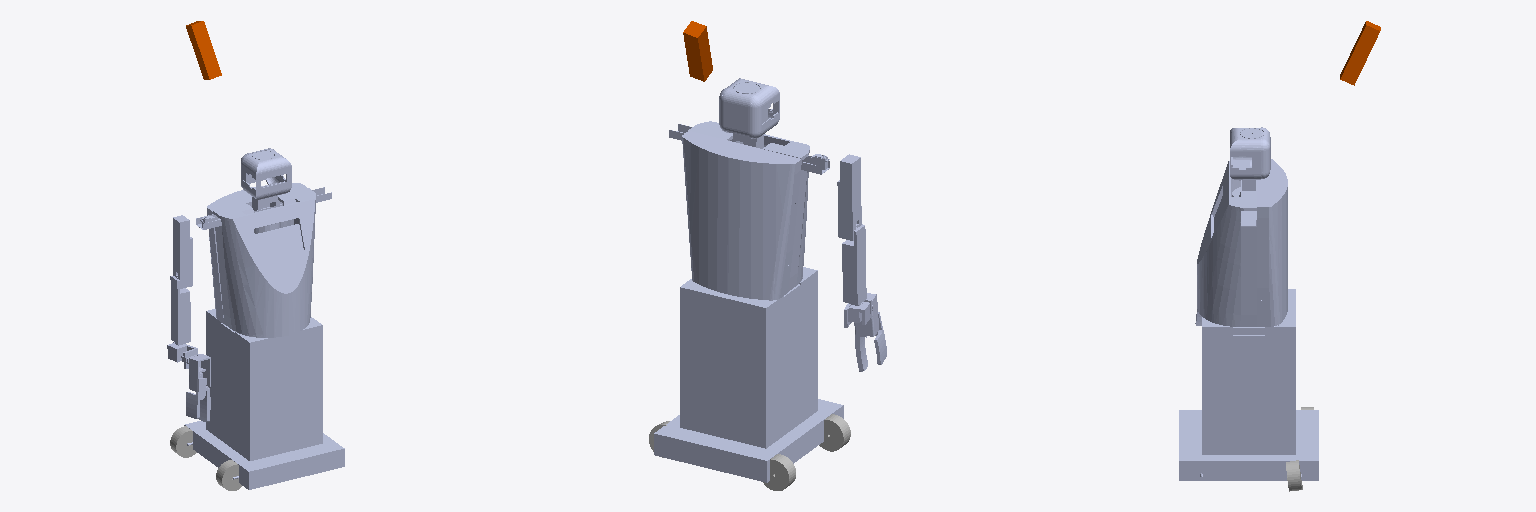
--- Facts derived from the render (not from the file) ---
The picture shows the robot from 3 angles, left to right: view 1: azimuth 30°, elevation 25°; view 2: azimuth 150°, elevation 25°; view 3: azimuth 270°, elevation 25°; orthographic projection.
Robot: simple_ardop — 14 links, 13 joints (11 continuous, 2 fixed); root link odom; default pose: all joints at 0.
Links seen in each view (by area): view 1: base_link, bicep_Link, forearm_Link, kinect_link, wrist3_Link, wheel_back_right_Link, wheel_front_right_Link, end_effector_Link; view 2: base_link, bicep_Link, forearm_Link, kinect_link, wrist3_Link, wheel_front_right_Link, wheel_back_right_Link; view 3: base_link, kinect_link.
Link boxes in pixels (bbox=[...]): base_link: bbox=[184, 148, 344, 489]; bicep_Link: bbox=[173, 215, 192, 288]; forearm_Link: bbox=[170, 276, 190, 345]; kinect_link: bbox=[186, 21, 221, 79]; wrist3_Link: bbox=[189, 354, 210, 421]; wheel_back_right_Link: bbox=[170, 426, 196, 457]; wheel_front_right_Link: bbox=[216, 460, 241, 490]; end_effector_Link: bbox=[186, 378, 206, 418]; base_link: bbox=[654, 78, 843, 482]; bicep_Link: bbox=[837, 154, 861, 240]; forearm_Link: bbox=[842, 224, 866, 305]; kinect_link: bbox=[683, 21, 712, 81]; wrist3_Link: bbox=[854, 293, 878, 371]; wheel_front_right_Link: bbox=[819, 414, 850, 451]; wheel_back_right_Link: bbox=[763, 454, 795, 490]; base_link: bbox=[1179, 127, 1318, 480]; kinect_link: bbox=[1340, 21, 1380, 85].
Bounding box of the posed robot: 0.6396 × 0.6418 × 1.54 m (x, y, z).
Meshes: 12 distinct files referenced, 10 mesh visuals loaded (10 binary STL); not drawn: 2 (reference not matched to a file when rendering).

robot.urdf — simple_ardop:
<robot
  name="simple_ardop">
  <link name="odom" />

  <link
    name="base_link">
    <inertial>
      <origin
        xyz="0.23525 -0.35636 -0.16004"
        rpy="0 0 0" />
      <mass
        value="62.913" />
      <inertia
        ixx="3.1177"
        ixy="0.00059306"
        ixz="0.0015251"
        iyy="3.068"
        iyz="0.014463"
        izz="0.050374" />
    </inertial>
    <visual>
      <origin
        xyz="0 0 0"
        rpy="0 0 0" />
      <geometry>
        <mesh
          filename="package://simple_ardop/meshes/base_link.STL" />
      </geometry>
      <material
        name="">
        <color
          rgba="0.79216 0.81961 0.93333 1" />
      </material>
    </visual>
    <collision>
      <origin
        xyz="0 0 0"
        rpy="0 0 0" />
      <geometry>
        <mesh
          filename="package://simple_ardop/meshes/base_link.STL" />
      </geometry>
    </collision>
  </link>

    <joint
    name="odom_joint"
    type="fixed">
    <parent
      link="odom" />
    <child
      link="base_link" />
  </joint>


  <link
    name="wheel_front_left_Link">
    <inertial>
      <origin
        xyz="0.0075 -1.1546E-14 2.548E-14"
        rpy="0 0 0" />
      <mass
        value="2.00" />  <!-- 0.01907-->
      <inertia
        ixx="0"
        ixy="0"
        ixz="0"
        iyy="0"
        iyz="0"
        izz="0" />
    </inertial>
    <visual>
      <origin
        xyz="0 0 0"
        rpy="0 0 0" />
      <geometry>
        <mesh
          filename="package://simple_ardop/meshes/wheel_front_left_Link.STL" />
      </geometry>
      <material
        name="">
        <color
          rgba="0.75294 0.75294 0.75294 1" />
      </material>
    </visual>
    <collision>
      <origin
        xyz="0 0 0"
        rpy="0 0 0" />
      <geometry>
        <mesh
          filename="package://simple_ardop/meshes/wheel_front_left_Link.STL" />
      </geometry>
    </collision>
  </link>
  <joint
    name="wheel_front_left_joint"
    type="continuous">
    <origin
      xyz="0.42534 -0.50619 -0.47879"
      rpy="0.85877 0 0" />
    <parent
      link="base_link" />
    <child
      link="wheel_front_left_Link" />
    <axis
      xyz="1 0 0" />
  </joint>
  <link
    name="wheel_front_right_Link">
    <inertial>
      <origin
        xyz="0.0075 -1.7764E-15 3.8525E-14"
        rpy="0 0 0" />
      <mass
        value="2.00" />
      <inertia
        ixx="0"
        ixy="0"
        ixz="0"
        iyy="0"
        iyz="0"
        izz="0" />
    </inertial>
    <visual>
      <origin
        xyz="0 0 0"
        rpy="0 0 0" />
      <geometry>
        <mesh
          filename="package://simple_ardop/meshes/wheel_front_right_Link.STL" />
      </geometry>
      <material
        name="">
        <color
          rgba="0.75294 0.75294 0.75294 1" />
      </material>
    </visual>
    <collision>
      <origin
        xyz="0 0 0"
        rpy="0 0 0" />
      <geometry>
        <mesh
          filename="package://simple_ardop/meshes/wheel_front_right_Link.STL" />
      </geometry>
    </collision>
  </link>
  <joint
    name="wheel_front_right_joint"
    type="continuous">
    <origin
      xyz="0.030335 -0.50619 -0.47879"
      rpy="1.5708 0 0" />
    <parent
      link="base_link" />
    <child
      link="wheel_front_right_Link" />
    <axis
      xyz="1 0 0" />
  </joint>
  <link
    name="wheel_back_left_Link">
    <inertial>
      <origin
        xyz="0.0075 -8.0491E-15 3.8025E-15"
        rpy="0 0 0" />
      <mass
        value="2.00" />
      <inertia
        ixx="0"
        ixy="0"
        ixz="0"
        iyy="0"
        iyz="0"
        izz="0" />
    </inertial>
    <visual>
      <origin
        xyz="0 0 0"
        rpy="0 0 0" />
      <geometry>
        <mesh
          filename="package://simple_ardop/meshes/wheel_back_left_Link.STL" />
      </geometry>
      <material
        name="">
        <color
          rgba="0.75294 0.75294 0.75294 1" />
      </material>
    </visual>
    <collision>
      <origin
        xyz="0 0 0"
        rpy="0 0 0" />
      <geometry>
        <mesh
          filename="package://simple_ardop/meshes/wheel_back_left_Link.STL" />
      </geometry>
    </collision>
  </link>
  <joint
    name="wheel_back_left_joint"
    type="continuous">
    <origin
      xyz="0.42534 -0.19004 -0.47879"
      rpy="1.6891 0 0" />
    <parent
      link="base_link" />
    <child
      link="wheel_back_left_Link" />
    <axis
      xyz="1 0 0" />
  </joint>
  <link
    name="wheel_back_right_Link">
    <inertial>
      <origin
        xyz="0.0075 -1.7764E-15 3.8525E-14"
        rpy="0 0 0" />
      <mass
        value="2.00" />
      <inertia
        ixx="0"
        ixy="0"
        ixz="0"
        iyy="0"
        iyz="0"
        izz="0" />
    </inertial>
    <visual>
      <origin
        xyz="0 0 0"
        rpy="0 0 0" />
      <geometry>
        <mesh
          filename="package://simple_ardop/meshes/wheel_back_right_Link.STL" />
      </geometry>
      <material
        name="">
        <color
          rgba="0.75294 0.75294 0.75294 1" />
      </material>
    </visual>
    <collision>
      <origin
        xyz="0 0 0"
        rpy="0 0 0" />
      <geometry>
        <mesh
          filename="package://simple_ardop/meshes/wheel_back_right_Link.STL" />
      </geometry>
    </collision>
  </link>
  <joint
    name="wheel_back_right_joint"
    type="continuous">
    <origin
      xyz="0.030335 -0.19004 -0.47879"
      rpy="1.5708 0 0" />
    <parent
      link="base_link" />
    <child
      link="wheel_back_right_Link" />
    <axis
      xyz="1 0 0" />
  </joint>
  <link
    name="shoulder_Link">
    <inertial>
      <origin
        xyz="0.008031 0.036032 0.043945"
        rpy="0 0 0" />
      <mass
        value="0.20851" />
      <inertia
        ixx="0"
        ixy="0"
        ixz="0"
        iyy="0"
        iyz="0"
        izz="0" />
    </inertial>
    <visual>
      <origin
        xyz="0 0 0"
        rpy="0 0 0" />
      <geometry>
        <mesh
          filename="package://simple_ardop/meshes/shoulder_Link.STL" />
      </geometry>
      <material
        name="">
        <color
          rgba="0.098039 0.098039 0.098039 1" />
      </material>
    </visual>
    <collision>
      <origin
        xyz="0 0 0"
        rpy="0 0 0" />
      <geometry>
        <mesh
          filename="package://simple_ardop/meshes/shoulder_Link.STL" />
      </geometry>
    </collision>
  </link>
  <joint
    name="shoulder_joint"
    type="continuous">
    <origin
      xyz="-0.0058888 -0.36975 0.40275"
      rpy="-1.0091E-17 6.0393E-17 1.4052" />
    <parent
      link="base_link" />
    <child
      link="shoulder_Link" />
    <axis
      xyz="0 0 1" />
      		<limit
			effort="300"
			velocity="3"
			lower="-0.45"
			upper="1.10" />
		<dynamics 
			damping="50" 
			friction="1" />
  </joint>
  <link
    name="bicep_Link">
    <inertial>
      <origin
        xyz="0.034133 -0.09449 -0.013707"
        rpy="0 0 0" />
      <mass
        value="0.5828" />
      <inertia
        ixx="0"
        ixy="0"
        ixz="0"
        iyy="0"
        iyz="0"
        izz="0"  />
    </inertial>
    <visual>
      <origin
        xyz="0 0 0"
        rpy="0 0 0" />
      <geometry>
        <mesh
          filename="package://simple_ardop/meshes/bicep_Link.STL" />
      </geometry>
      <material
        name="">
        <color
          rgba="0.79216 0.81961 0.93333 1" />
      </material>
    </visual>
    <collision>
      <origin
        xyz="0 0 0"
        rpy="0 0 0" />
      <geometry>
        <mesh
          filename="package://simple_ardop/meshes/bicep_Link.STL" />
      </geometry>
    </collision>
  </link>
  <joint
    name="bicep_joint"
    type="continuous">
    <origin
      xyz="0.0026622 0.055751 0.04"
      rpy="1.5837 -4.5667E-16 1.5708" />
    <parent
      link="shoulder_Link" />
    <child
      link="bicep_Link" />
    <axis
      xyz="-1 0 0" />
      		<limit
			effort="300"
			velocity="3"
			lower="-0.45"
			upper="1.10" />
		<dynamics 
			damping="50" 
			friction="1" />
  </joint>
  <link
    name="forearm_Link">
    <inertial>
      <origin
        xyz="0.035227 -0.11565 -0.010858"
        rpy="0 0 0" />
      <mass
        value="0.4986" />
      <inertia
        ixx="0"
        ixy="0"
        ixz="0"
        iyy="0"
        iyz="0"
        izz="0"  />
    </inertial>
    <visual>
      <origin
        xyz="0 0 0"
        rpy="0 0 0" />
      <geometry>
        <mesh
          filename="package://simple_ardop/meshes/forearm_Link.STL" />
      </geometry>
      <material
        name="">
        <color
          rgba="0.79216 0.81961 0.93333 1" />
      </material>
    </visual>
    <collision>
      <origin
        xyz="0 0 0"
        rpy="0 0 0" />
      <geometry>
        <mesh
          filename="package://simple_ardop/meshes/forearm_Link.STL" />
      </geometry>
    </collision>
  </link>
  <joint
    name="forearm_joint"
    type="continuous">
    <origin
      xyz="0.0094954 -0.20676 -0.00095309"
      rpy="0.065442 2.7756E-17 -9.3241E-16" />
    <parent
      link="bicep_Link" />
    <child
      link="forearm_Link" />
    <axis
      xyz="-1 0 0" />
      		<limit
			effort="300"
			velocity="3"
			lower="-0.45"
			upper="1.10" />
		<dynamics 
			damping="50" 
			friction="1" />
  </joint>
  <link
    name="wrist_Link">
    <inertial>
      <origin
        xyz="-0.00103 -0.0092846 0.025689"
        rpy="0 0 0" />
      <mass
        value="0.10422" />
      <inertia
        ixx="0"
        ixy="0"
        ixz="0"
        iyy="0"
        iyz="0"
        izz="0"  />
    </inertial>
    <visual>
      <origin
        xyz="0 0 0"
        rpy="0 0 0" />
      <geometry>
        <mesh
          filename="package://simple_ardop/meshes/wrist_Link.STL" />
      </geometry>
      <material
        name="">
        <color
          rgba="0.79216 0.81961 0.93333 1" />
      </material>
    </visual>
    <collision>
      <origin
        xyz="0 0 0"
        rpy="0 0 0" />
      <geometry>
        <mesh
          filename="package://simple_ardop/meshes/wrist_Link.STL" />
      </geometry>
    </collision>
  </link>
  <joint
    name="wrist_joint"
    type="continuous">
    <origin
      xyz="0.046015 -0.227 0"
      rpy="1.5708 -0.11078 1.5499E-15" />
    <parent
      link="forearm_Link" />
    <child
      link="wrist_Link" />
    <axis
      xyz="-0.0086546 -0.077803 -0.99693" />
      		<limit
			effort="300"
			velocity="3"
			lower="-0.45"
			upper="1.10" />
		<dynamics 
			damping="50" 
			friction="1" />
  </joint>
  <link
    name="wrist2_Link">
    <inertial>
      <origin
        xyz="0.01744 1.3289E-06 0.020602"
        rpy="0 0 0" />
      <mass
        value="0.10052" />
      <inertia
        ixx="0"
        ixy="0"
        ixz="0"
        iyy="0"
        iyz="0"
        izz="0"  />
    </inertial>
    <visual>
      <origin
        xyz="0 0 0"
        rpy="0 0 0" />
      <geometry>
        <mesh
          filename="package://simple_ardop/meshes/wrist2_Link.STL" />
      </geometry>
      <material
        name="">
        <color
          rgba="0.79216 0.81961 0.93333 1" />
      </material>
    </visual>
    <collision>
      <origin
        xyz="0 0 0"
        rpy="0 0 0" />
      <geometry>
        <mesh
          filename="package://simple_ardop/meshes/wrist2_Link.STL" />
      </geometry>
    </collision>
  </link>
  <joint
    name="wrist2_joint"
    type="continuous">
    <origin
      xyz="-0.045183 -0.0059131 0.039398"
      rpy="-1.5489 0.0095341 -2.0545" />
    <parent
      link="wrist_Link" />
    <child
      link="wrist2_Link" />
    <axis
      xyz="0 0 -1" />
      		<limit
			effort="300"
			velocity="3"
			lower="-0.45"
			upper="1.10" />
		<dynamics 
			damping="50" 
			friction="1" />
  </joint>
  <link
    name="wrist3_Link">
    <inertial>
      <origin
        xyz="0.055624 -0.086582 -0.0042256"
        rpy="0 0 0" />
      <mass
        value="0.23397" />
      <inertia
        ixx="0"
        ixy="0"
        ixz="0"
        iyy="0"
        iyz="0"
        izz="0"  />
    </inertial>
    <visual>
      <origin
        xyz="0 0 0"
        rpy="0 0 0" />
      <geometry>
        <mesh
          filename="package://simple_ardop/meshes/wrist3_Link.STL" />
      </geometry>
      <material
        name="">
        <color
          rgba="0.79216 0.81961 0.93333 1" />
      </material>
    </visual>
    <collision>
      <origin
        xyz="0 0 0"
        rpy="0 0 0" />
      <geometry>
        <mesh
          filename="package://simple_ardop/meshes/wrist3_Link.STL" />
      </geometry>
    </collision>
  </link>
  <joint
    name="wrist3_joint"
    type="continuous">
    <origin
      xyz="0.01492 0 0.024641"
      rpy="-0.04401 1.3878E-15 -8.4655E-16" />
    <parent
      link="wrist2_Link" />
    <child
      link="wrist3_Link" />
    <axis
      xyz="1 0 0" />
      		<limit
			effort="300"
			velocity="3"
			lower="-0.45"
			upper="1.10" />
		<dynamics 
			damping="50" 
			friction="1" />
  </joint>
  <link
    name="end_effector_Link">
    <inertial>
      <origin
        xyz="0.0082894 -0.061865 0.06505"
        rpy="0 0 0" />
      <mass
        value="0.075365" />
      <inertia
        ixx="0"
        ixy="0"
        ixz="0"
        iyy="0"
        iyz="0"
        izz="0" />
    </inertial>
    <visual>
      <origin
        xyz="0 0 0"
        rpy="0 0 0" />
      <geometry>
        <mesh
          filename="package://simple_ardop/meshes/end_effector_Link.STL" />
      </geometry>
      <material
        name="">
        <color
          rgba="0.79216 0.81961 0.93333 1" />
      </material>
    </visual>
    <collision>
      <origin
        xyz="0 0 0"
        rpy="0 0 0" />
      <geometry>
        <mesh
          filename="package://simple_ardop/meshes/end_effector_Link.STL" />
      </geometry>
    </collision>
  </link>
  <joint
    name="end_effector_joint"
    type="continuous">
    <origin
      xyz="0.0077442 -0.068318 0.016305"
      rpy="9.9928E-15 -1.4511 1.5708" />
    <parent
      link="wrist3_Link" />
    <child
      link="end_effector_Link" />
    <axis
      xyz="0 -1 0" />
      		<limit
			effort="300"
			velocity="3"
			lower="-0.45"
			upper="1.10" />
		<dynamics 
			damping="50" 
			friction="1" />
  </joint>


<!-- 

  <link name="kinect_link">
    <collision>
      <origin xyz="0 0 1" rpy="0 0 0"/>
      <geometry>
        <box size="0.05 0.2 0.05"/>
      </geometry>
    </collision>

    <visual>
      <origin xyz="0 0 1" rpy="0 0 0"/>
      <geometry>
        <box size="0.05 0.2 0.05"/>
      </geometry>
      <material name="green"/>
    </visual>

    <inertial>
      <mass value="0.1" />
      <origin xyz="0 0 1" rpy="0 0 0"/>
      <box_inertia m="0.1 0.1 0.1 " />
      <inertia ixx="0" ixy="0" ixz="0" iyy="0" iyz="0" izz="0" />
    </inertial>
  </link>

  <joint name="kinect_joint" type="fixed">
    <axis xyz="0 0 1" />
    <origin xyz=".2 0 0" rpy="0 0 0"/>
    <parent link="base_link"/>
    <child link="kinect_link"/>
  </joint>


  <joint name="camera_optical_joint" type="fixed">
    <axis xyz="0 0 0" />
    <origin xyz=".2 0 0" rpy="0 0 0"/>
    <parent link="kinect_link"/>
    <child link="camera_link_optical"/>
  </joint>

<link name = " camera_link_optical">
</link>




<gazebo reference = "kinect_link" >
<sensor type = "depth"  name ="camera_1">
<always_on>1</always_on>
<visualize>true</visualize>
<camera>
  <horizontal_fov>1.047</horizontal_fov>
  <image>
    <width>640</width>
    <height>480</height>
    <format>R8G8B8</format>
  </image>

  <depth_camera>
  </depth_camera>

  <clip>
    <near>0.1</near>
    <far>100</far>
  </clip>


</camera>

<gazebo>
<plugin name = "camera_controller" filename = "libgazebo_ros_openni_kinect.so">
  <always_on>true</always_on>
  <updateRate>10.0</updateRate>
  <cameraName>kinect</cameraName>
  <framename>camera_link_optical</framename>
  <imageTopicName> rgb/image_raw</imageTopicName>
  <depthImageTopicName> depth/image_raw</depthImageTopicName>
  <pointCloudTopicName>depth/points</pointCloudTopicName>
  <cameraInfoTopicName>rgb/camera_info</cameraInfoTopicName>
  <depthImageCameraInfoTopicName>depth/camera_info</depthImageCameraInfoTopicName>
  <pointCloudCutoff>0.4</pointCloudCutoff>
  <hackBaseline>0.07</hackBaseline>
  <distortionK1>0</distortionK1>
  <distortionK2>0</distortionK2>
  <distortionK3>0</distortionK3>
  <distortionT1>0</distortionT1>
  <distortionT2>0</distortionT2>
  <CxPrime>0</CxPrime>
  <Cx>0</Cx>
  <Cy>0</Cy>
  <focalLength>0</focalLength>
  <hackBaseline>0</hackBaseline>
  </plugin>

</gazebo>

-->


  <link name="kinect_link">
    <collision>
      <origin xyz="0 0 0" rpy="0 0 0"/>
      <geometry>
        <box size="0.05 0.2 0.05"/>
      </geometry>
    </collision>

    <visual>
      <origin xyz="0 0 0" rpy="0 0 0"/>
      <geometry>
        <box size="0.05 0.2 0.05"/>
      </geometry>
      <material name="green"/>
    </visual>

    <inertial>
      <mass value="0.1" />
      <origin xyz="0 0 1" rpy="0 0 0"/>
      <box_inertia m="0.1 0.1 0.1 " />
      <inertia ixx="0" ixy="0" ixz="0" iyy="0" iyz="0" izz="0" />
    </inertial>
  </link>

  <joint name="kinect_joint" type="fixed">
    <axis xyz="1 1 1" />
    <origin xyz=".2 0 0.9" rpy="2 3 6.28"/>
    <parent link="base_link"/>
    <child link="kinect_link"/>
  </joint>





  <gazebo 
    reference="odom">
  </gazebo>

    <gazebo reference="shoulder_link">
      <selfCollide>true</selfCollide>
    </gazebo>
    <gazebo reference="bicep_Link">
      <selfCollide>true</selfCollide>
    </gazebo>
    <gazebo reference="forearm_Link">
      <selfCollide>true</selfCollide>
    </gazebo>
    <gazebo reference="wrist_Link">
      <selfCollide>true</selfCollide>
    </gazebo>
    <gazebo reference="wrist2_Link">
      <selfCollide>true</selfCollide>
    </gazebo>
    <gazebo reference="wrist3_link">
      <selfCollide>true</selfCollide>
    </gazebo>
    <gazebo reference="end_effector_link">
      <selfCollide>true</selfCollide>
    </gazebo>

  <gazebo reference="base_link">
    <material>Gazebo/White</material>
    <turnGravityOff>false</turnGravityOff>
  </gazebo>


  <gazebo reference="wheel_front_left_Link">
    <!--fdir1 value="1 0 0"/-->
    <material>Gazebo/Grey</material>
    <turnGravityOff>false</turnGravityOff>
  </gazebo>

  <gazebo reference="wheel_front_right_Link">
    <!--fdir1 value="1 0 0"/-->
    <material>Gazebo/Grey</material>
    <turnGravityOff>false</turnGravityOff>
  </gazebo>

  <gazebo reference="wheel_back_left_Link">
    <!--fdir1 value="1 0 0"/-->
    <material>Gazebo/Grey</material>
    <turnGravityOff>false</turnGravityOff>
  </gazebo>

  <gazebo reference="wheel_back_right_Link">
    <!--fdir1 value="1 0 0"/-->
    <material>Gazebo/Grey</material>
    <turnGravityOff>false</turnGravityOff>
  </gazebo>

  <gazebo reference="shoulder_Link">
    <material>Gazebo/Red</material>
    <turnGravityOff>false</turnGravityOff>
  </gazebo>

  <gazebo reference="bicep_Link">
    <material>Gazebo/Red</material>
    <turnGravityOff>false</turnGravityOff>
  </gazebo>

  <gazebo reference="forearm_link">
    <material>Gazebo/Red</material>
    <turnGravityOff>false</turnGravityOff>
  </gazebo>

  <gazebo reference="wrist_link">
    <material>Gazebo/Red</material>
    <turnGravityOff>false</turnGravityOff>
  </gazebo>

  <gazebo reference="wrist2_link">
    <material>Gazebo/Red</material>
    <turnGravityOff>false</turnGravityOff>
  </gazebo>

  <gazebo reference="wrist3_link">
    <material>Gazebo/Red</material>
    <turnGravityOff>false</turnGravityOff>
  </gazebo>


  <gazebo reference="end_effector_link">
    <material>Gazebo/Blue</material>
    <turnGravityOff>false</turnGravityOff>
  </gazebo>

  <gazebo>
    <plugin name="gazebo_ros_control" filename="libgazebo_ros_control.so">
      <robotNamespace>/simple_ardop</robotNamespace>
      <robotSimType>gazebo_ros_control/DefaultRobotHWSim</robotSimType>
    </plugin>
  </gazebo>

  <gazebo>
    <plugin name="differential_drive_controller_1" filename="libgazebo_ros_diff_drive.so">
      <legacyMode>false</legacyMode>
      <alwaysOn>true</alwaysOn>
      <updateRate>10</updateRate>
      <leftJoint>wheel_front_left_joint</leftJoint>
      <rightJoint>wheel_front_right_joint</rightJoint>
      <wheelSeparation>0.4</wheelSeparation>
      <wheelDiameter>0.2</wheelDiameter>
      <wheelAcceleration>0</wheelAcceleration>
      <torque>10</torque>
      <commandTopic>cmd_vel</commandTopic>
      <odometryTopic>odom</odometryTopic>
      <odometryFrame>odom</odometryFrame>
      <robotBaseFrame>base_link</robotBaseFrame>
    </plugin>
  </gazebo>

   <gazebo>
    <plugin name="differential_drive_controller_2" filename="libgazebo_ros_diff_drive.so">
      <legacyMode>false</legacyMode>
      <alwaysOn>true</alwaysOn>
      <updateRate>10</updateRate>
      <leftJoint>wheel_back_left_joint</leftJoint>
      <rightJoint>wheel_back_right_joint</rightJoint>
      <wheelSeparation>0.4</wheelSeparation>
      <wheelDiameter>0.2</wheelDiameter>
      <wheelAcceleration>0</wheelAcceleration>
      <torque>10</torque>
      <commandTopic>cmd_vel</commandTopic>
      <odometryTopic>odom</odometryTopic>
      <odometryFrame>odom</odometryFrame>
      <robotBaseFrame>base_link</robotBaseFrame>
    </plugin>
  </gazebo>



<gazebo reference = "kinect_link">
  <sensor type = "depth" name ="kinect_link">

    <camera>
  <horizontal_fov>1.047</horizontal_fov>
  <image>
    <width>640</width>
    <height>480</height>
    <format>R8G8B8</format>
  </image>

  <depth_camera>
  </depth_camera>

  <clip>
    <near>0.1</near>
    <far>100</far>
  </clip>


</camera>

  <plugin name="kinect_link_controller" filename="libgazebo_ros_openni_kinect.so">
    <baseline>0.2</baseline>
    <alwaysOn>true</alwaysOn>
    <visualize>true</visualize>
    <updateRate>1.0</updateRate>
    <cameraName>kinect</cameraName>
    <imageTopicName>/kinect/depth/image_raw</imageTopicName>
    <cameraInfoTopicName>/kinect/depth/camera_info</cameraInfoTopicName>
    <depthImageTopicName>/kinect/depth/image_raw</depthImageTopicName>
    <depthImageInfoTopicName>/kinect/depth/camera_info</depthImageInfoTopicName>
    <pointCloudTopicName>/kinect/depth/points</pointCloudTopicName>
    <frameName>kinect_link</frameName>  <!-- kinect_data -->
    <pointCloudCutoff>0.5</pointCloudCutoff>
    <distortionK1>0.0000000</distortionK1>
    <distortionK2>0.0000000</distortionK2>
    <distortionK3>0.0000000</distortionK3>
    <distortionT1>0.0000000</distortionT1>
    <distortionT2>0.0000000</distortionT2>
    <CxPrime>0</CxPrime>
    <Cx>0</Cx>
    <Cy>0</Cy>
    <focalLength>0</focalLength>
    <hackBaseline>0</hackBaseline>
  </plugin>
</sensor>
</gazebo>



  <transmission name="shoulder_joint_trans">
    <type>transmission_interface/SimpleTransmission</type>
    <joint name="shoulder_joint">
      <hardwareInterface>hardware_interface/PositionJointInterface</hardwareInterface>
    </joint>
    <actuator name="shoulder_servo">
      <hardwareInterface>hardware_interface/PositionJointInterface</hardwareInterface>
      <mechanicalReduction>1</mechanicalReduction>
    </actuator>
  </transmission>

  <transmission name="bicep_joint_trans">
    <type>transmission_interface/SimpleTransmission</type>
    <joint name="bicep_joint">
      <hardwareInterface>hardware_interface/PositionJointInterface</hardwareInterface>
    </joint>
    <actuator name="bicep_servo">
      <hardwareInterface>hardware_interface/PositionJointInterface</hardwareInterface>
      <mechanicalReduction>1</mechanicalReduction>
    </actuator>
  </transmission>

  <transmission name="forearm_joint_trans">
    <type>transmission_interface/SimpleTransmission</type>
    <joint name="forearm_joint">
      <hardwareInterface>hardware_interface/PositionJointInterface</hardwareInterface>
    </joint>
    <actuator name="forearm_servo">
      <hardwareInterface>hardware_interface/PositionJointInterface</hardwareInterface>
      <mechanicalReduction>1</mechanicalReduction>
    </actuator>
  </transmission>

  <transmission name="wrist_joint_trans">
    <type>transmission_interface/SimpleTransmission</type>
    <joint name="wrist_joint">
      <hardwareInterface>hardware_interface/PositionJointInterface</hardwareInterface>
    </joint>
    <actuator name="wrist_servo">
      <hardwareInterface>hardware_interface/PositionJointInterface</hardwareInterface>
      <mechanicalReduction>1</mechanicalReduction>
    </actuator>
  </transmission>

  <transmission name="wrist2_joint_trans">
    <type>transmission_interface/SimpleTransmission</type>
    <joint name="wrist2_joint">
      <hardwareInterface>hardware_interface/PositionJointInterface</hardwareInterface>
    </joint>
    <actuator name="wrist2_servo">
      <hardwareInterface>hardware_interface/PositionJointInterface</hardwareInterface>
      <mechanicalReduction>1</mechanicalReduction>
    </actuator>
  </transmission>

  <transmission name="wrist3_joint_trans">
    <type>transmission_interface/SimpleTransmission</type>
    <joint name="wrist3_joint">
      <hardwareInterface>hardware_interface/PositionJointInterface</hardwareInterface>
    </joint>
    <actuator name="wrist3_servo">
      <hardwareInterface>hardware_interface/PositionJointInterface</hardwareInterface>
      <mechanicalReduction>1</mechanicalReduction>
    </actuator>
  </transmission>

  <transmission name="end_effector_joint_trans">
    <type>transmission_interface/SimpleTransmission</type>
    <joint name="end_effector_joint">
      <hardwareInterface>hardware_interface/PositionJointInterface</hardwareInterface>
    </joint>
    <actuator name="end_effector_servo">
      <hardwareInterface>hardware_interface/PositionJointInterface</hardwareInterface>
      <mechanicalReduction>1</mechanicalReduction>
    </actuator>
  </transmission>


</robot>
